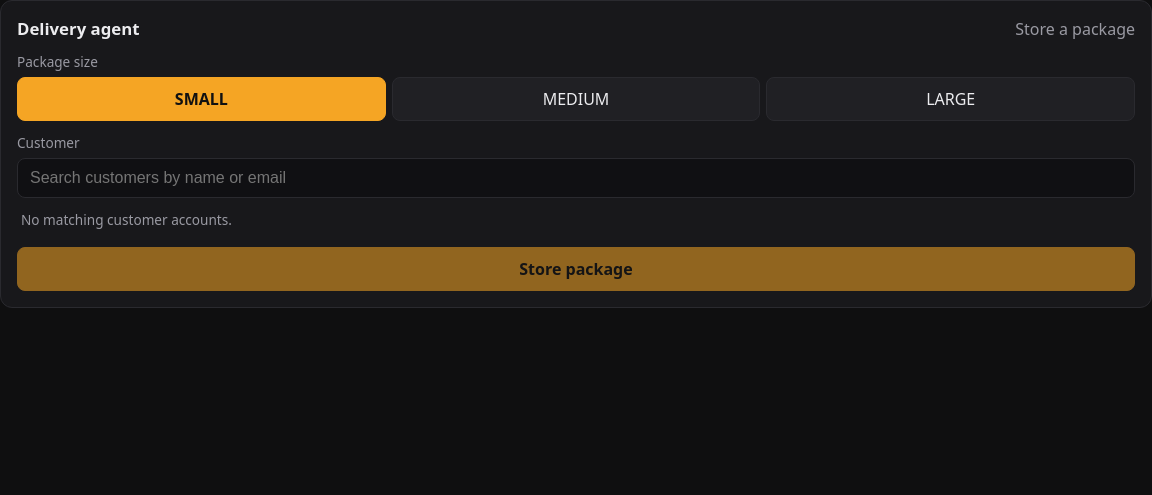
it: AgentPanel › lets an admin reveal the code the API returned to them
Type "ali" into the field named "Search customers" at (576, 178), box 17,158 -> 1135,198
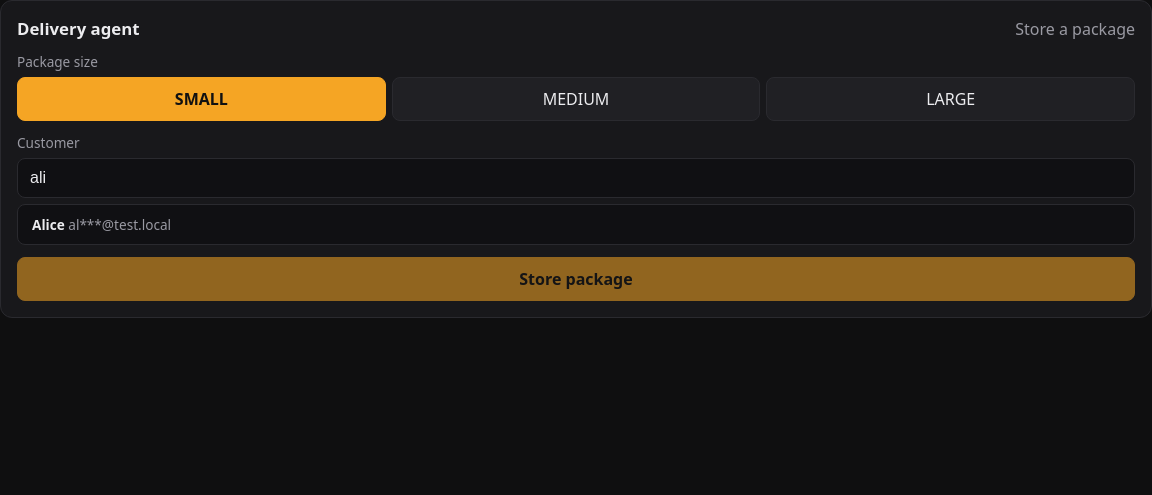
Click the button "Alice al***@test.local" at (48, 224), box 17,204 -> 1135,245
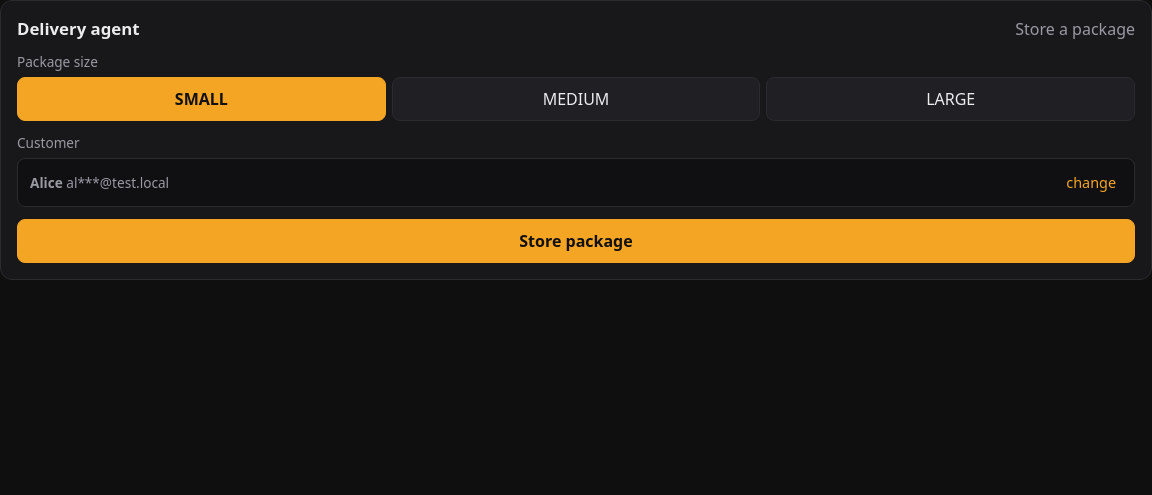
Click the button "Store package" at (576, 241), box 17,219 -> 1135,263
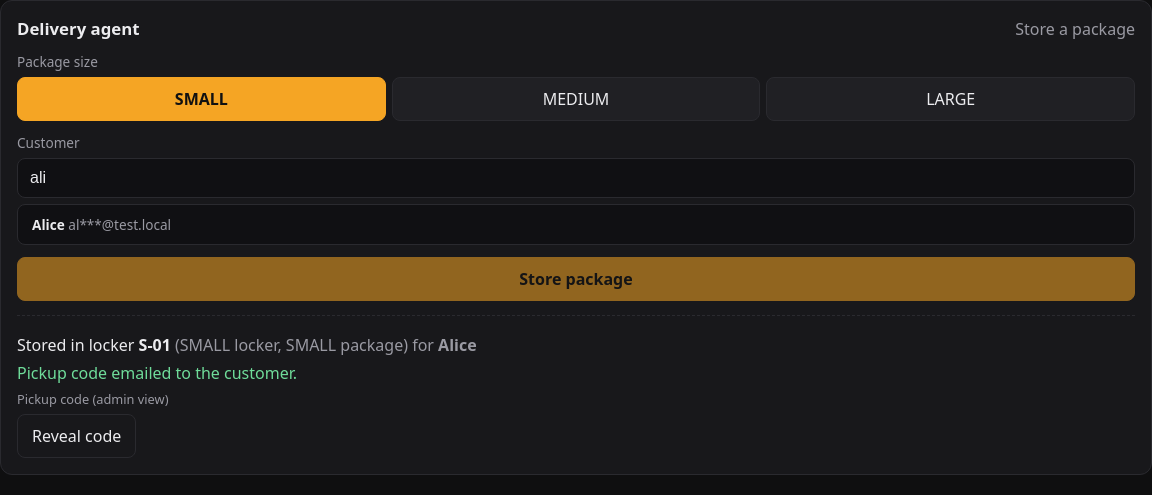
Click the button "Reveal code" at (77, 436), box 17,414 -> 136,458
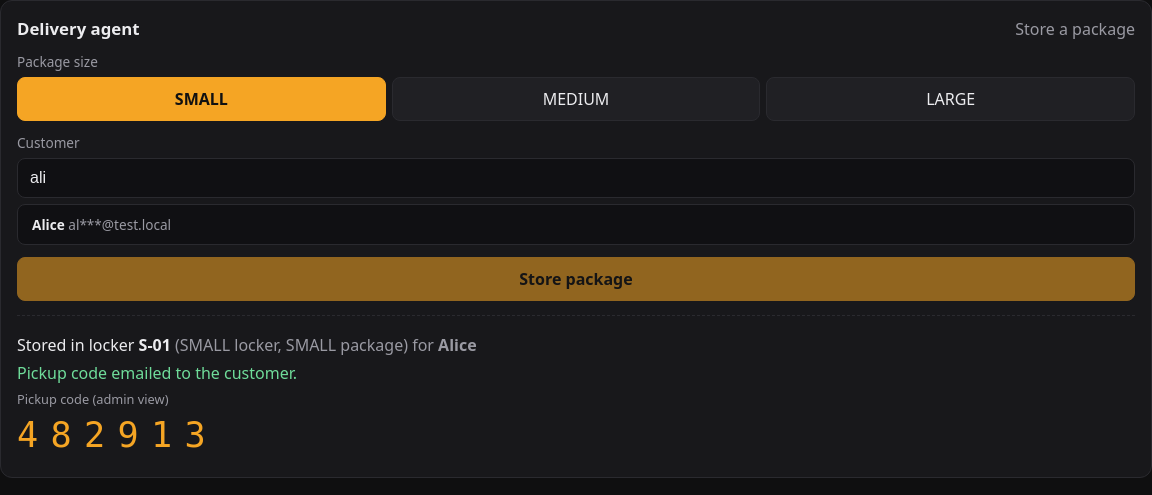
Now the text with test id "pickup-code" reads "482913", box 17,414 -> 218,455
